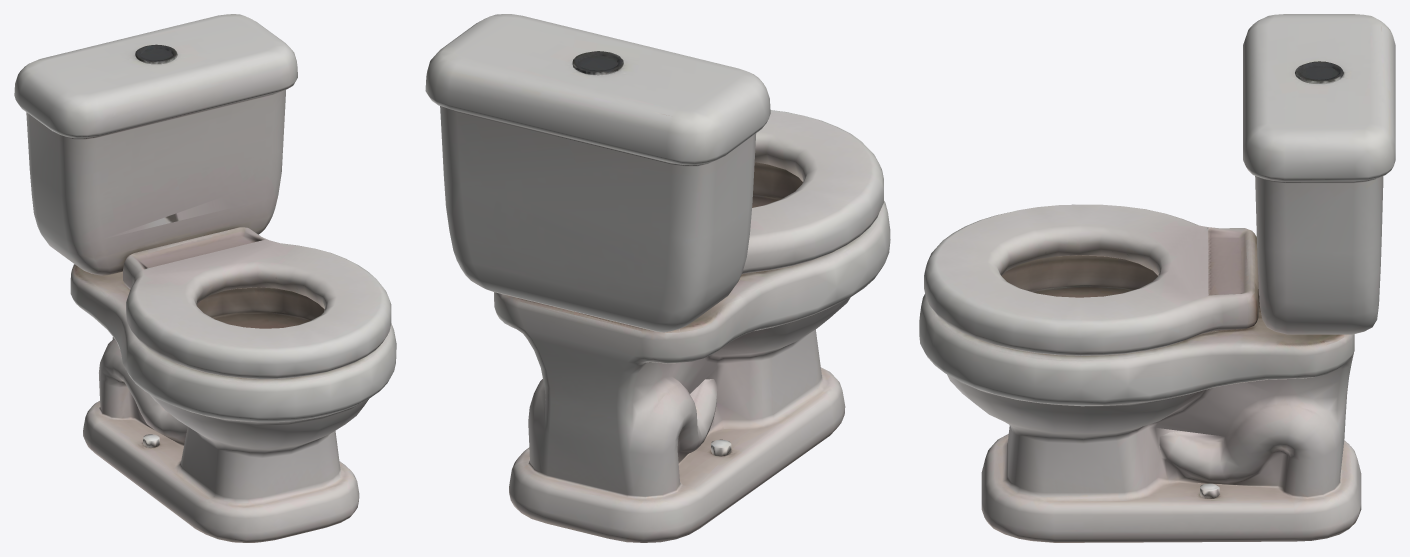
Rendered from selected.glb.
The picture shows the model from 3 angles, left to right: view 1: azimuth 30°, elevation 25°; view 2: azimuth 150°, elevation 25°; view 3: azimuth 270°, elevation 25°; orthographic projection. The views are drawn at different scales.
Parts seen in each view (by area): view 1: tripo_node_10c83bd8-2e35-447a-be05-cc91bcc6da71; view 2: tripo_node_10c83bd8-2e35-447a-be05-cc91bcc6da71; view 3: tripo_node_10c83bd8-2e35-447a-be05-cc91bcc6da71.
Boxes of the visible parts, box(x1,y1,x2,y2) form: tripo_node_10c83bd8-2e35-447a-be05-cc91bcc6da71: box(14, 14, 396, 542); tripo_node_10c83bd8-2e35-447a-be05-cc91bcc6da71: box(425, 14, 890, 542); tripo_node_10c83bd8-2e35-447a-be05-cc91bcc6da71: box(919, 14, 1395, 542).
Size of the model in its own units: 0.6738 by 0.998 by 0.998.
1 material, 1 textured.
